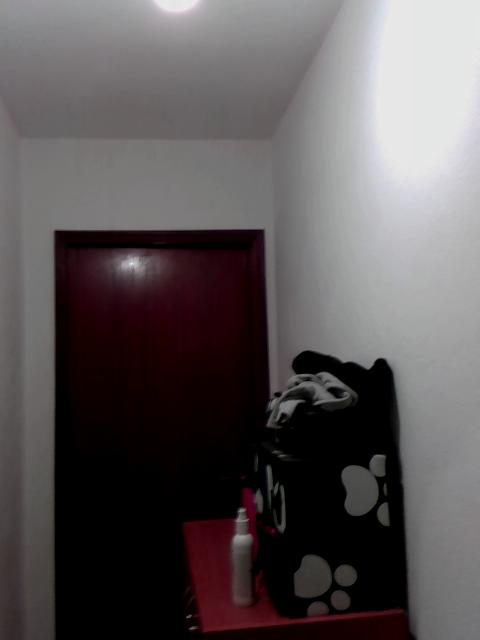closed_door: (53, 227, 269, 639)
